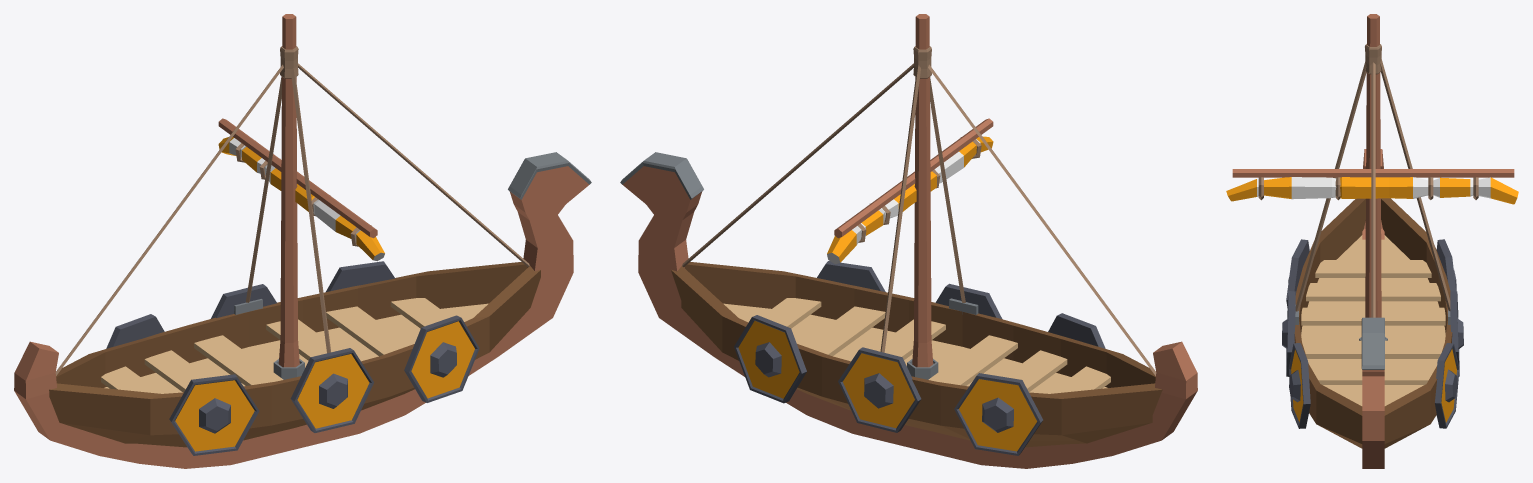
The picture shows the model from 3 angles, left to right: view 1: azimuth 30°, elevation 25°; view 2: azimuth 150°, elevation 25°; view 3: azimuth 270°, elevation 25°; orthographic projection. The views are drawn at different scales.
Visible parts, largest first — view 1: Cube; view 2: Cube; view 3: Cube.
Part boxes in pixels (x1,y1,x2,y2): Cube: (14, 14, 591, 468); Cube: (620, 14, 1197, 468); Cube: (1226, 14, 1518, 468).
Bounding box in the file's own units: 674 × 488 × 324.
